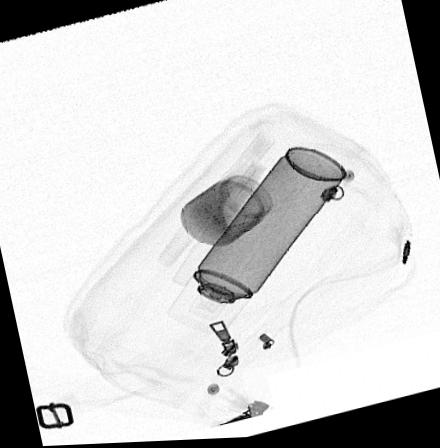Sprayer: (164, 147, 348, 340)
